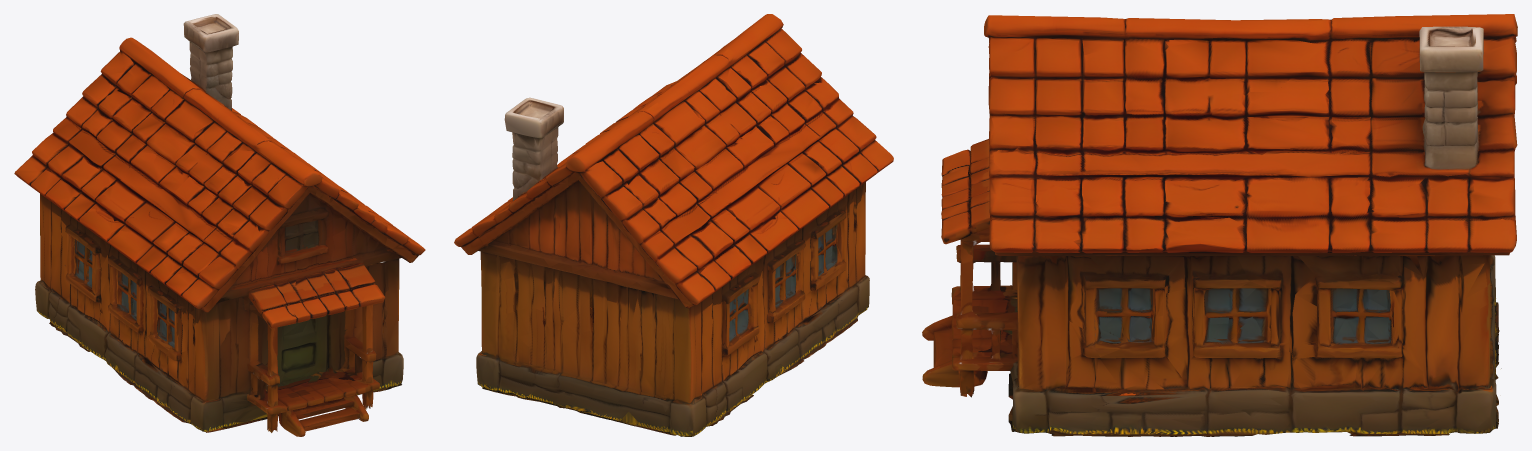
Rendered from farm_house_basic_shaded.low_fidelity.glb.
The picture shows the model from 3 angles, left to right: view 1: azimuth 30°, elevation 25°; view 2: azimuth 150°, elevation 25°; view 3: azimuth 270°, elevation 25°; orthographic projection. The views are drawn at different scales.
Visible parts, largest first — view 1: model; view 2: model; view 3: model.
Boxes of the visible parts, x1=… form: model: x1=14, y1=14, x2=425, y2=436; model: x1=454, y1=14, x2=893, y2=436; model: x1=922, y1=14, x2=1517, y2=436.
Bounding box in the file's own units: 1.14 × 1.22 × 1.78.
Materials: 1 (1 with a texture image).
